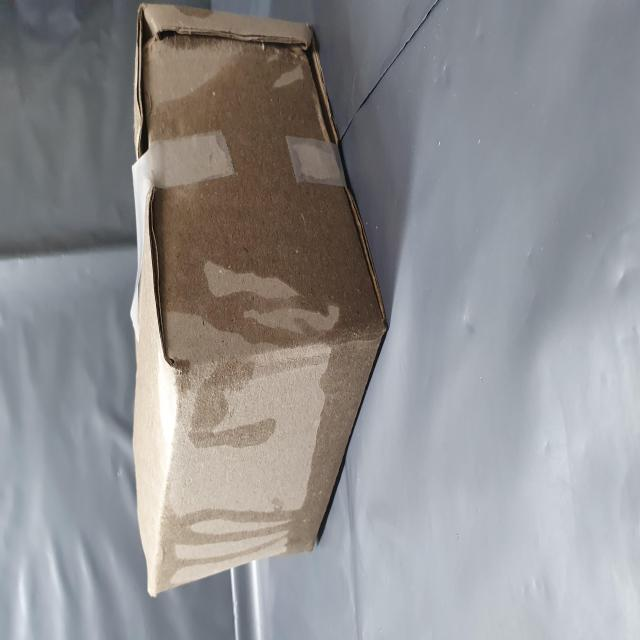wet: (38, 268, 259, 640), (282, 260, 340, 588)
